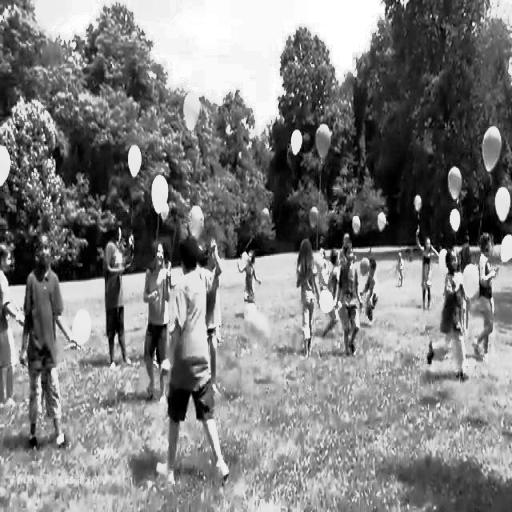balloon: (482, 126, 502, 172), (251, 316, 269, 352), (463, 266, 482, 300), (74, 311, 91, 346), (188, 203, 204, 239), (152, 174, 167, 212), (184, 94, 200, 129), (495, 188, 511, 220), (316, 125, 330, 161), (448, 167, 462, 199), (245, 304, 258, 338), (0, 147, 10, 187), (128, 148, 142, 175), (498, 236, 512, 262), (320, 290, 334, 314), (450, 208, 463, 232), (290, 131, 302, 156), (360, 256, 371, 278), (259, 208, 271, 227), (353, 216, 362, 236), (316, 256, 322, 282), (162, 204, 170, 223), (310, 208, 318, 226), (379, 213, 385, 232), (240, 252, 248, 266), (414, 196, 422, 210)
